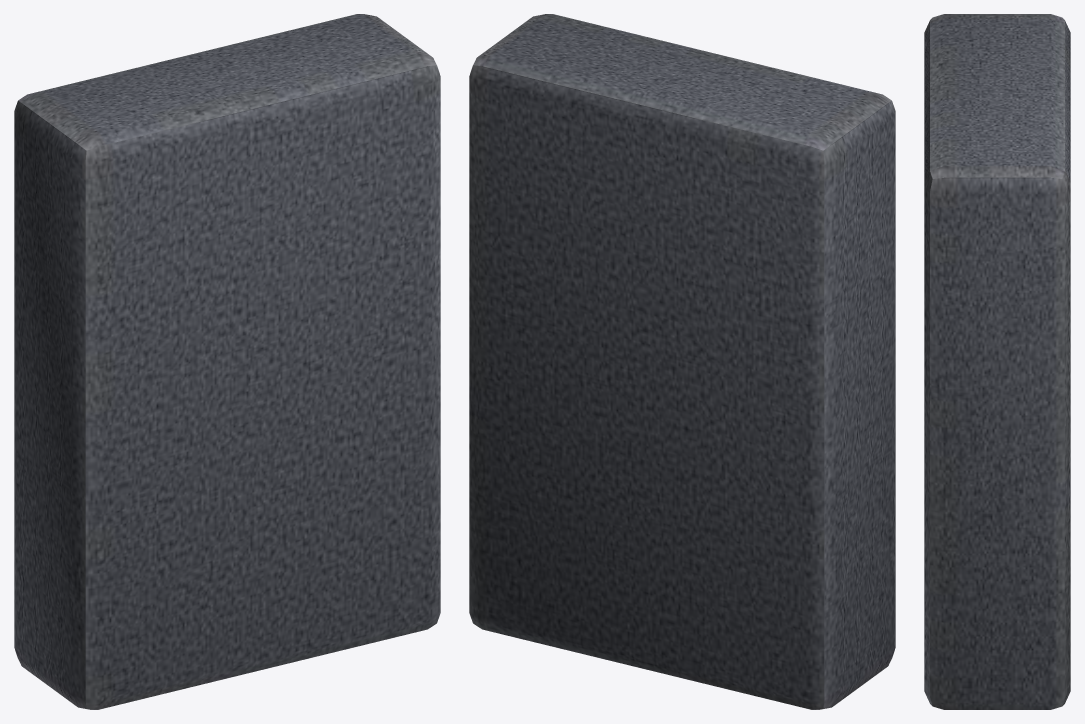
Rendered from att_extmag.glb.
The picture shows the model from 3 angles, left to right: view 1: azimuth 30°, elevation 25°; view 2: azimuth 150°, elevation 25°; view 3: azimuth 270°, elevation 25°; orthographic projection. The views are drawn at different scales.
Parts seen in each view (by area): view 1: mag; view 2: mag; view 3: mag.
Boxes of the visible parts, box(x1,y1,x2,y2) form: mag: box(14, 14, 440, 709); mag: box(469, 14, 895, 709); mag: box(924, 14, 1070, 709).
Size of the model in its own units: 0.06 by 0.09 by 0.022.
1 material, 1 textured.
